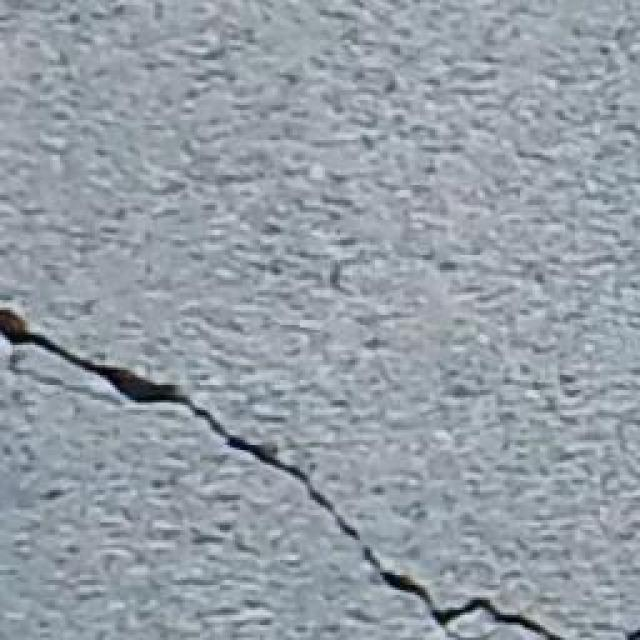concrete-crack: (0, 306, 566, 640)
